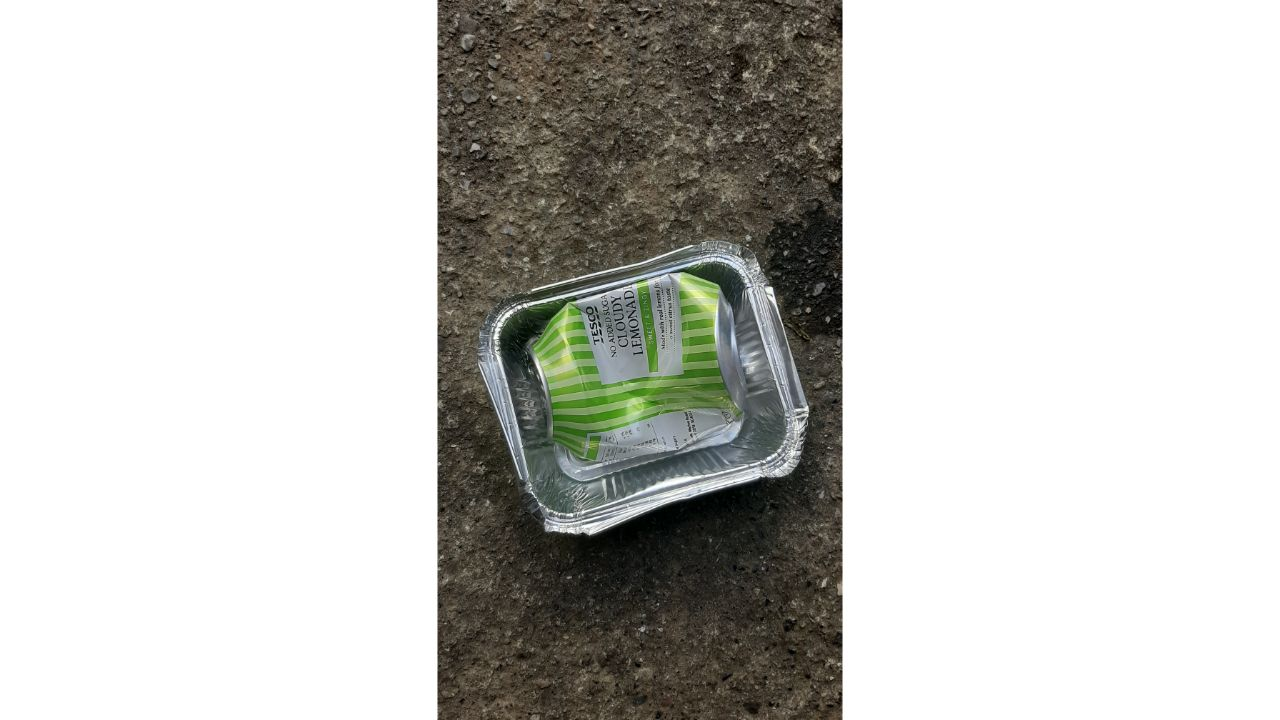Can: (522, 262, 757, 468)
